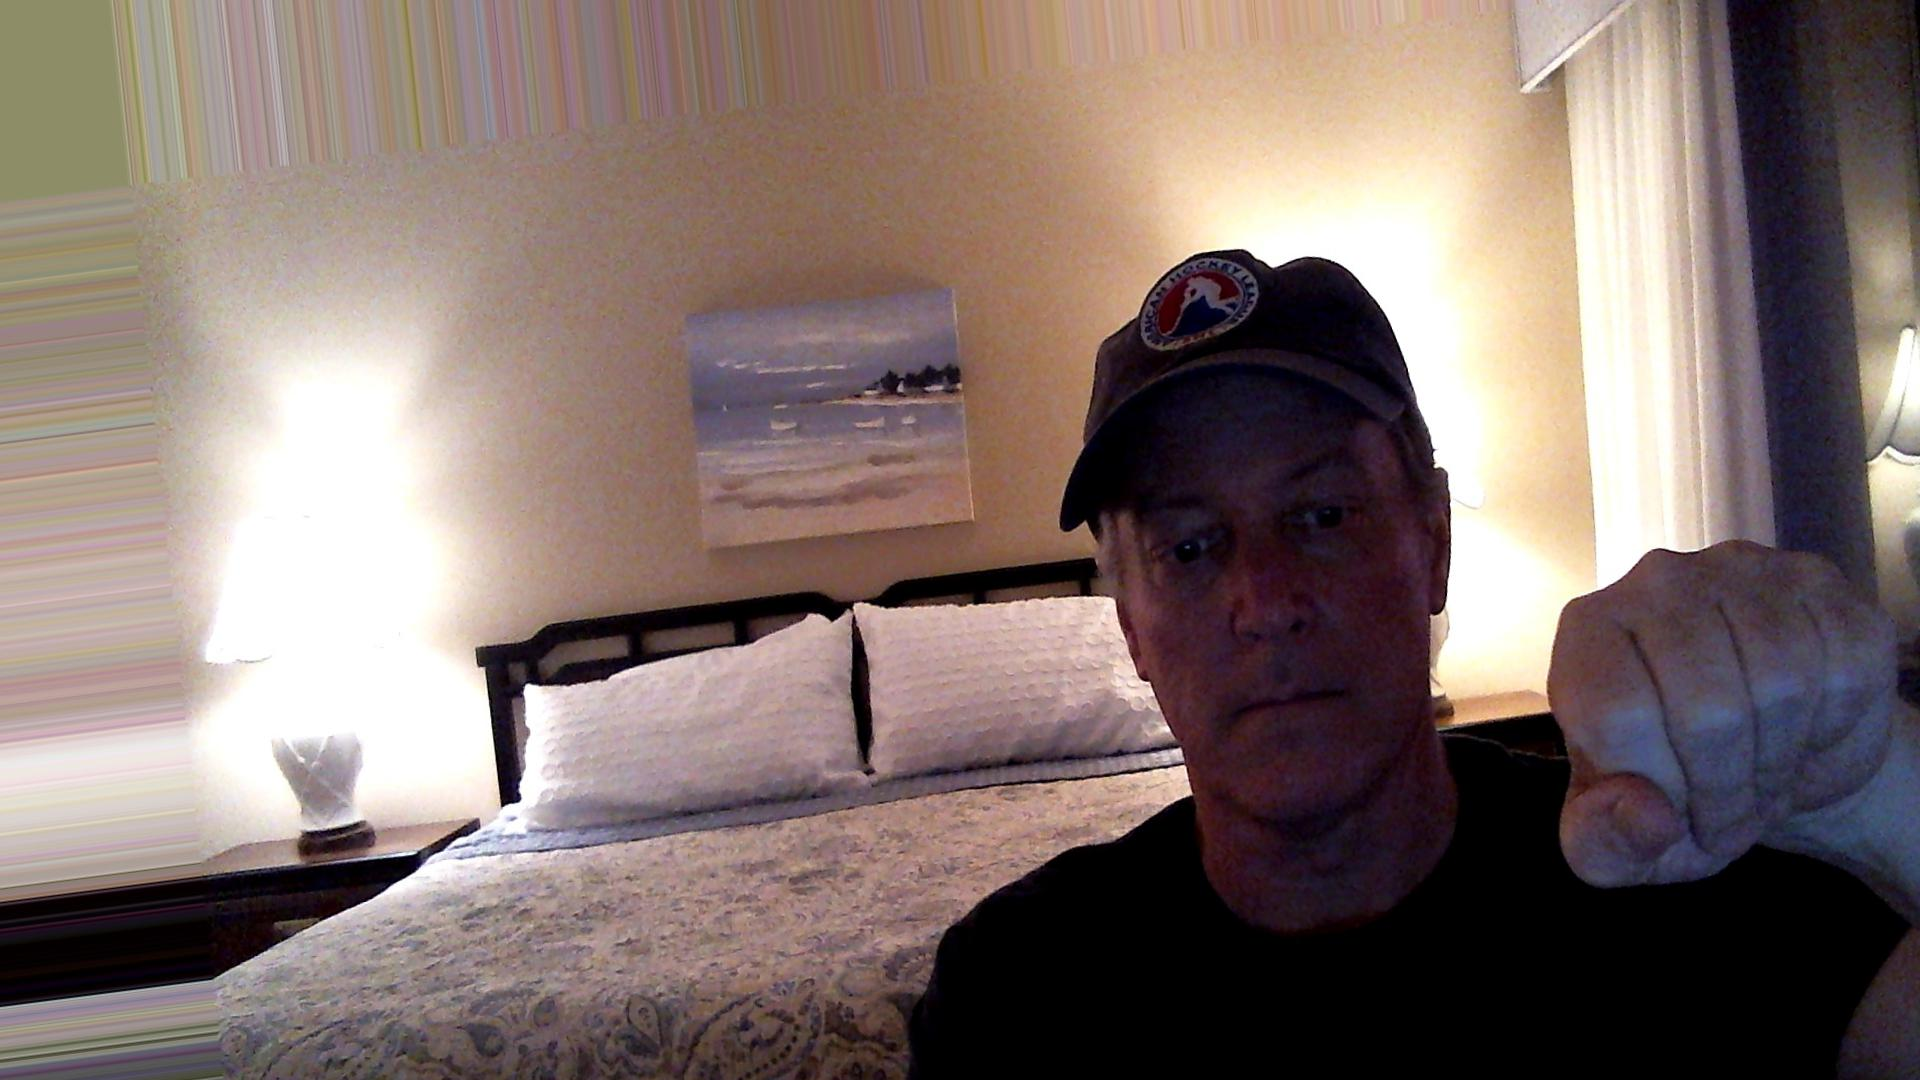Yes: (1515, 518, 1911, 902)
